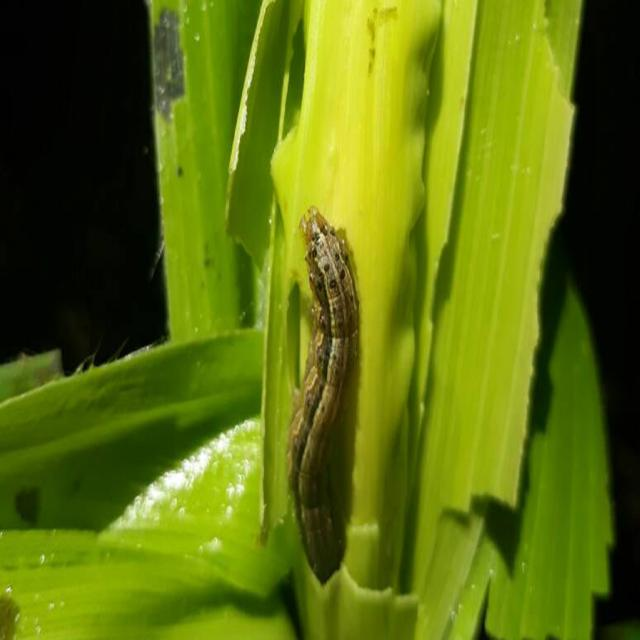worm: (286, 204, 361, 584)
